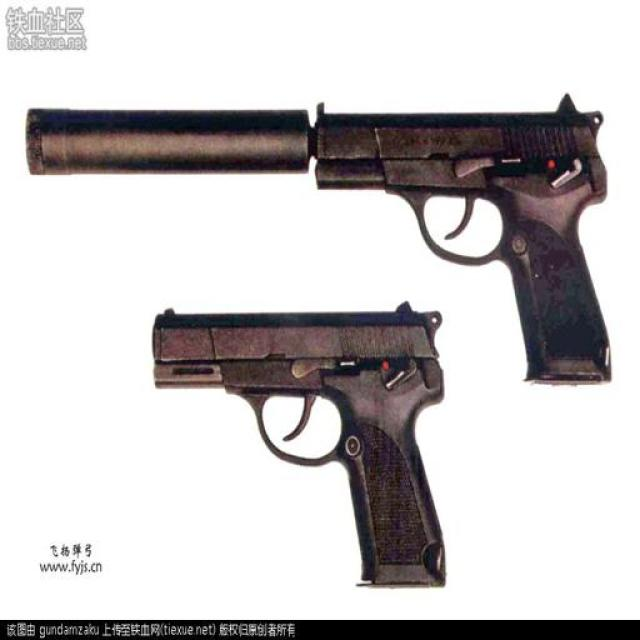pistol: (313, 100, 619, 385), (150, 304, 455, 586)
